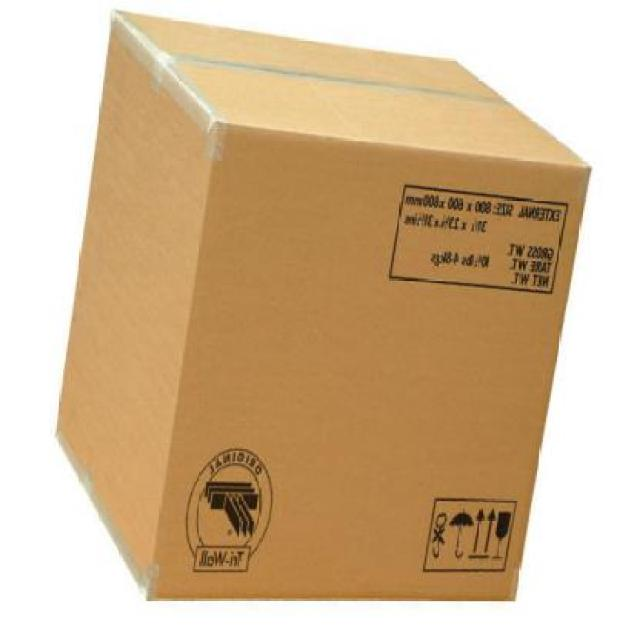cardboxes: (54, 9, 594, 600)
